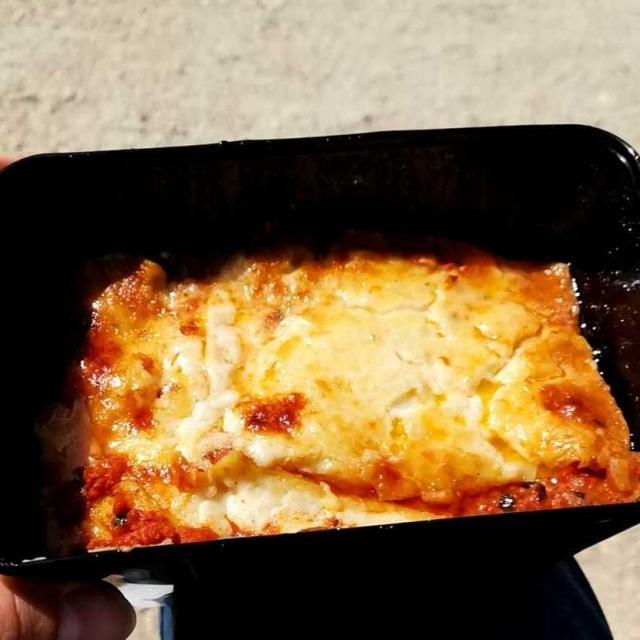lasagne: (81, 256, 630, 538)
